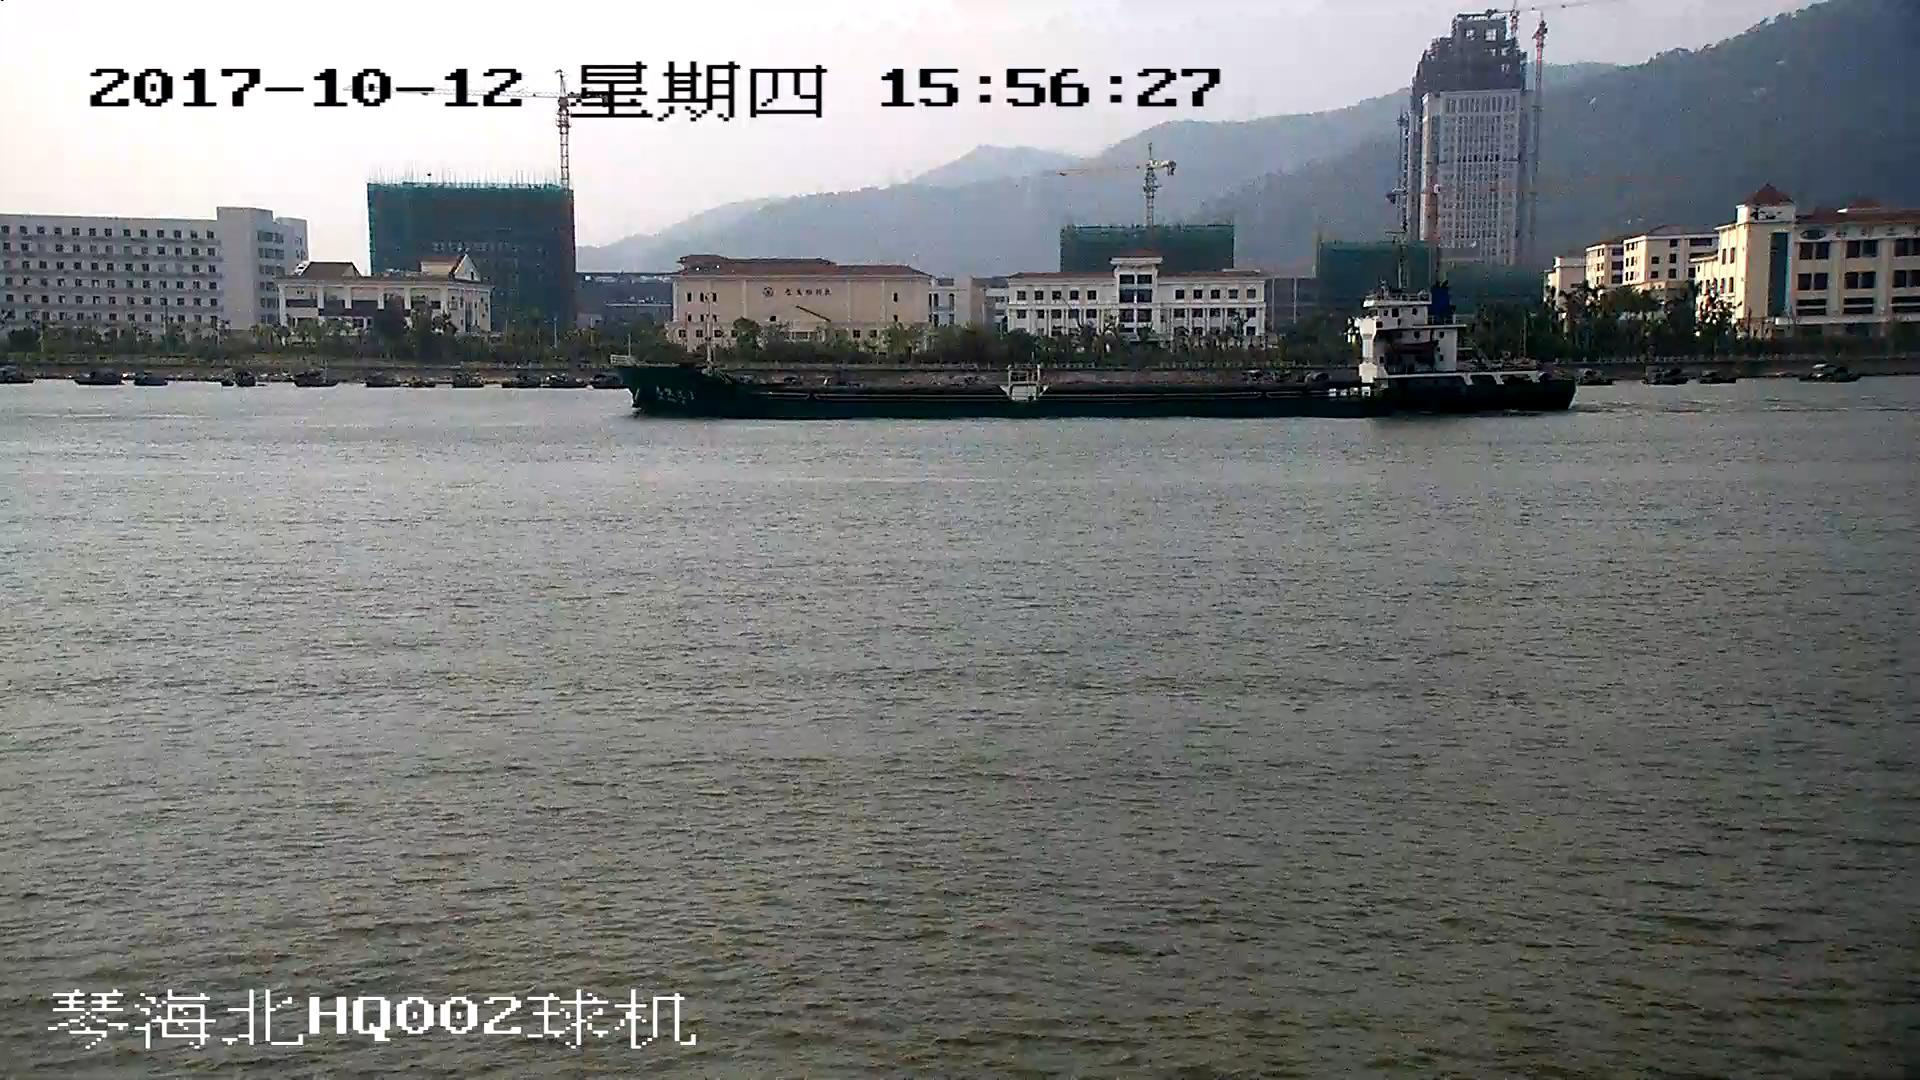Ship: (611, 291, 1580, 418)
